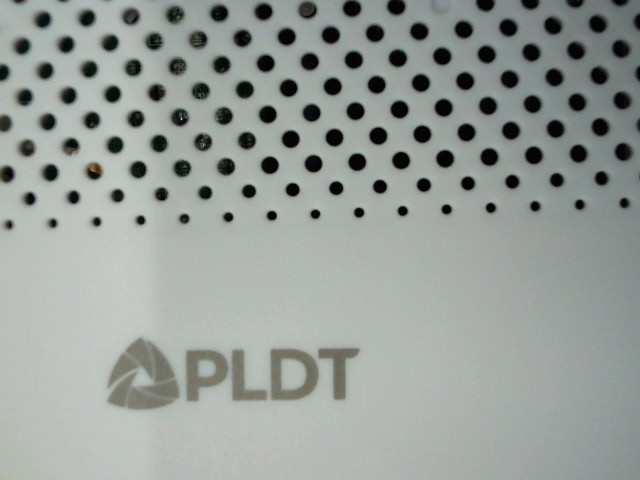BH_PLDT: (90, 322, 372, 420)
